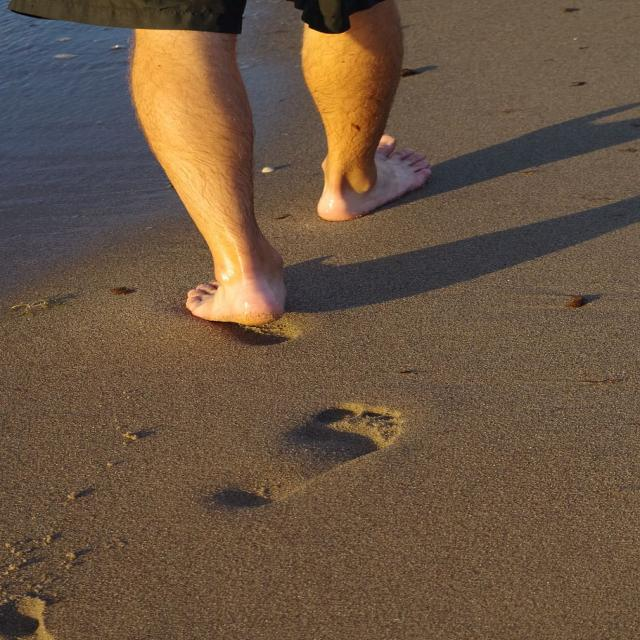human_foot_print: (172, 359, 449, 552)
